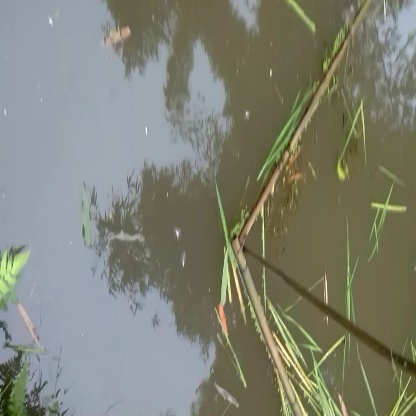branch: (244, 12, 375, 235)
